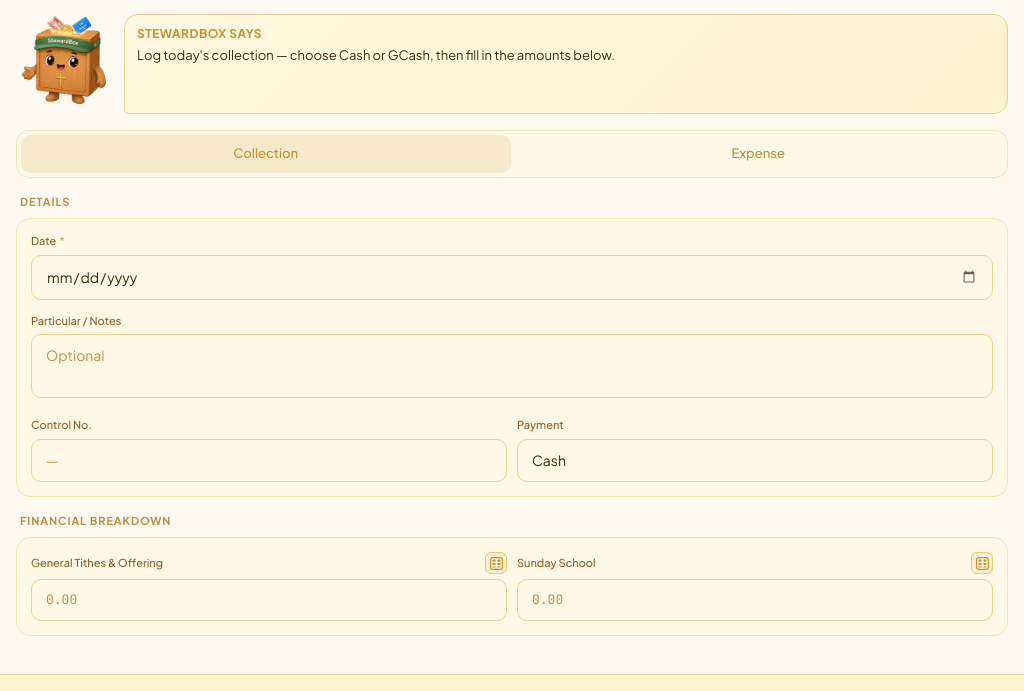
Test: switching back to Cash re-enables every field
Expected: the field labelled "General Tithes & Offering" is shown, [31, 579, 507, 620]
Select "GCash" in the dropdown labelled "Payment" at {"x": 755, "y": 460}, box [517, 438, 993, 482]
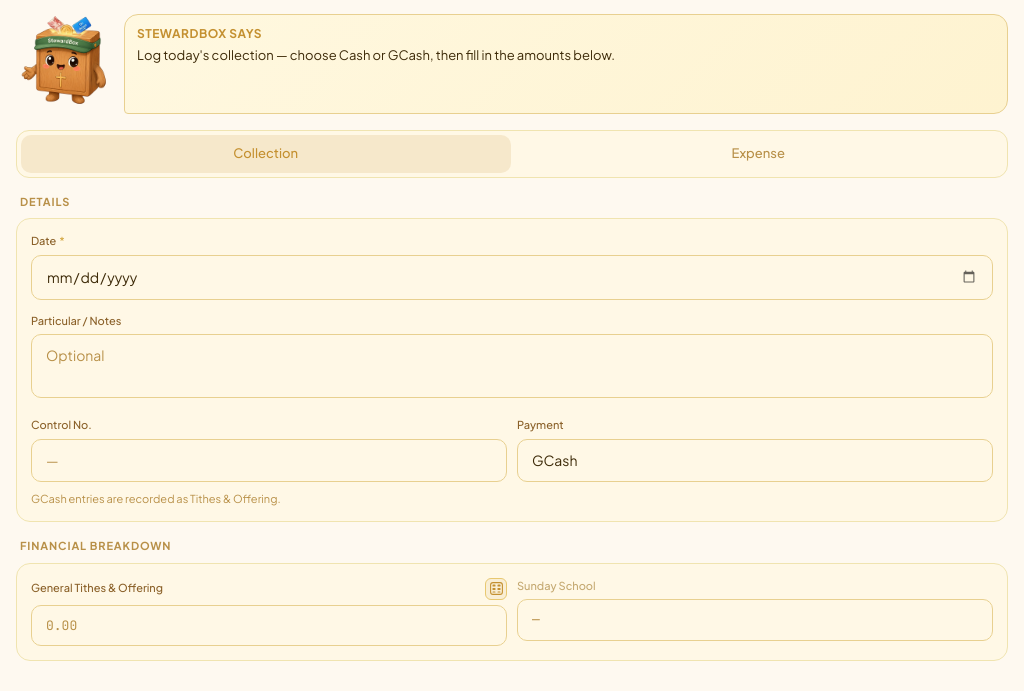
Select "Cash" in the dropdown labelled "Payment" at {"x": 755, "y": 460}, box [517, 438, 993, 482]
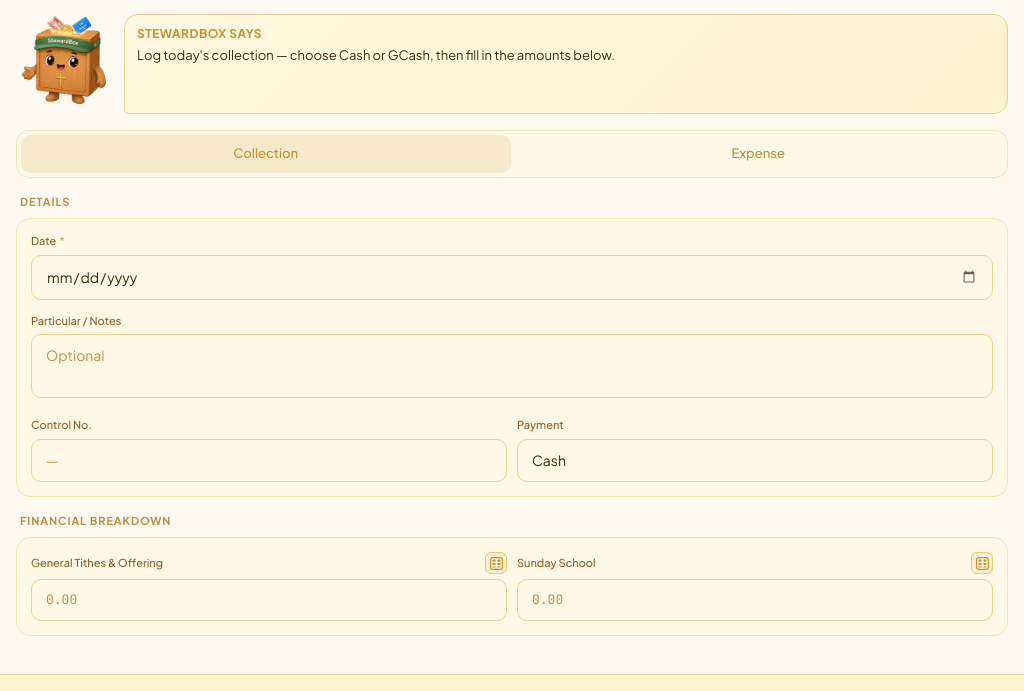
Result: the field labelled "Sunday School" is enabled at [517, 579, 993, 620]
